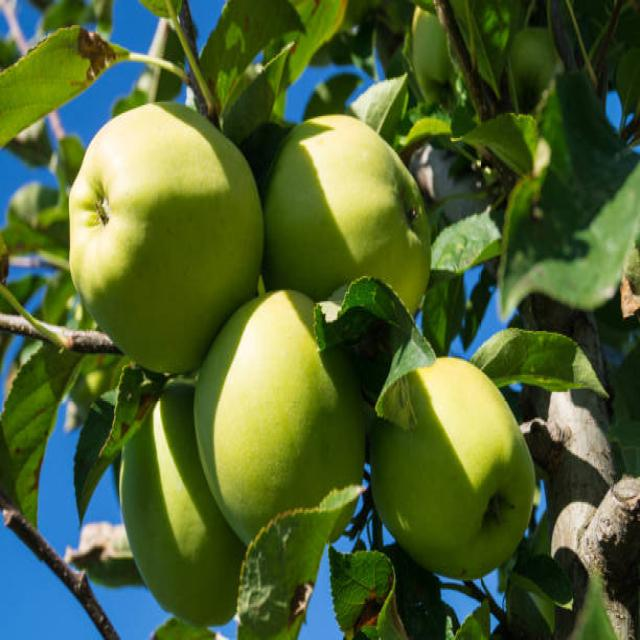Unripe: (63, 98, 265, 373), (196, 284, 364, 556), (369, 353, 536, 583)
